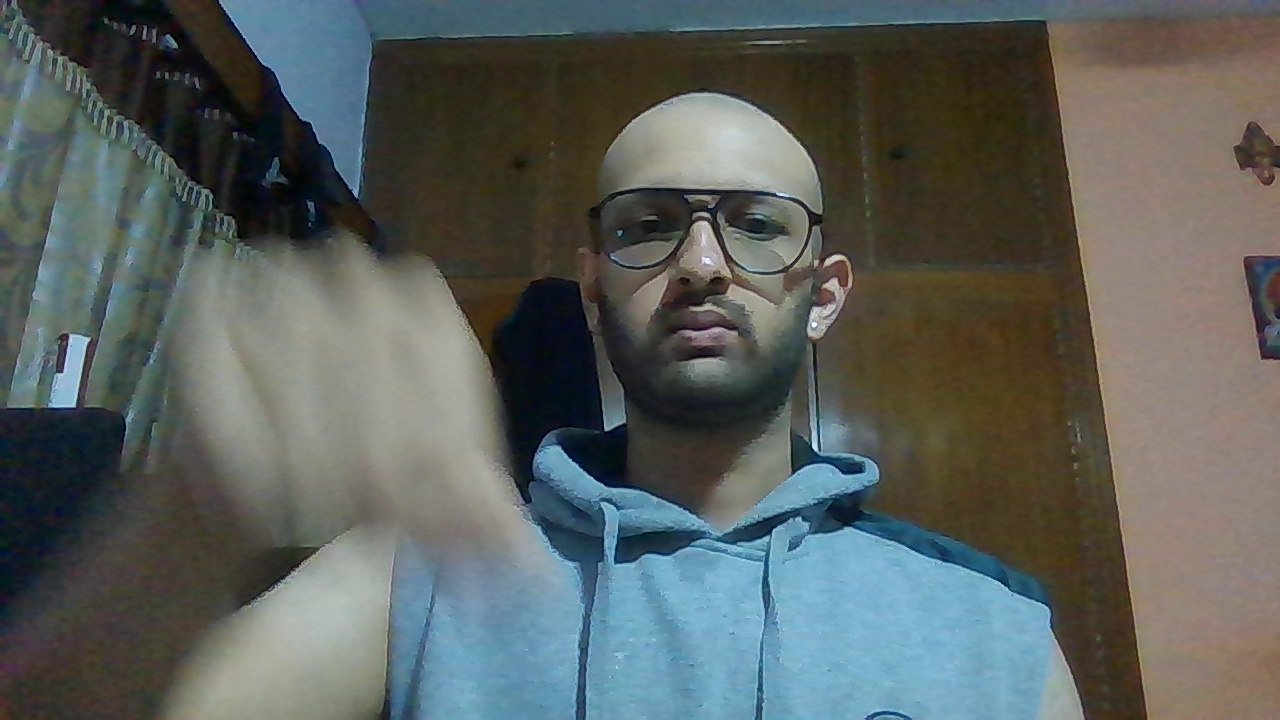Yes: (153, 223, 536, 588)
